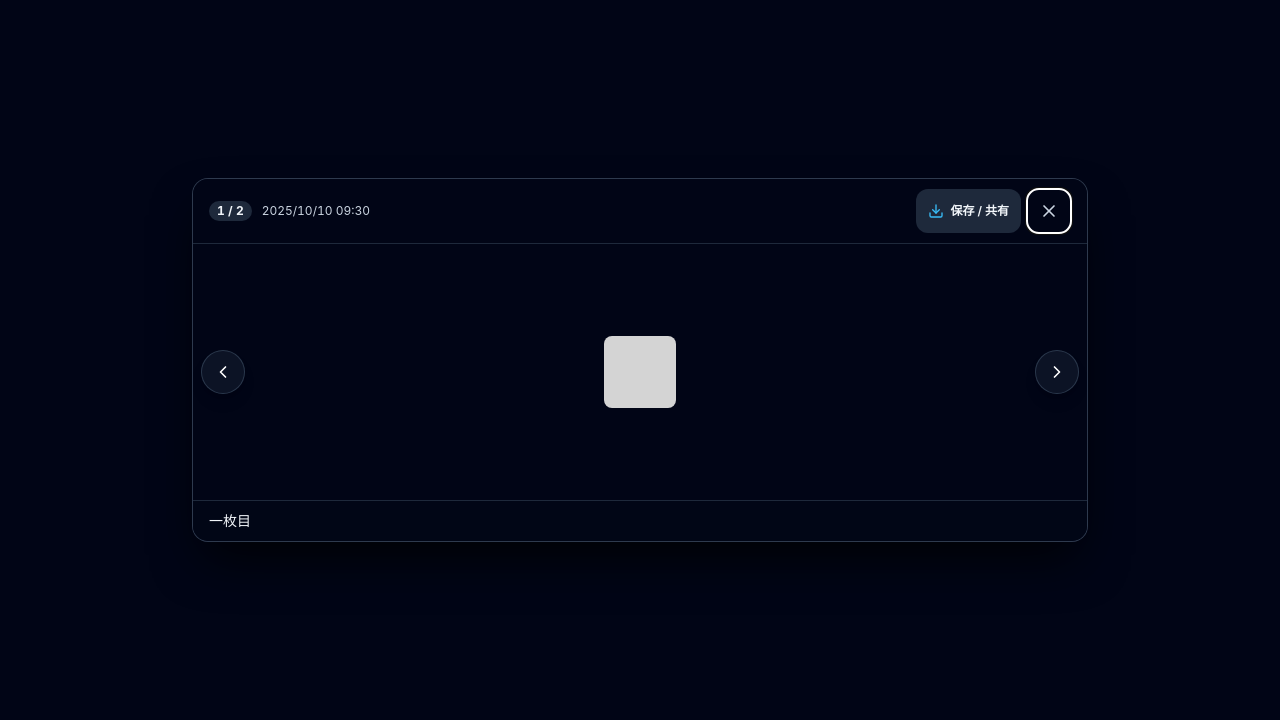
Test case: Phase 2 photo UI components › opens PhotoLightbox modal, switches photos via buttons and keyboard, and closes cleanly
This screenshot has width=1280, height=720.
Later steps or results of the test are not shown.
expect the text "1 / 2" is shown: met, box [209,201,252,221]
expect the text "2025/10/10 09:30" is shown: met, box [262,203,370,219]
Click the button named "次の写真" at (1057, 372), box [1035,350,1079,394]
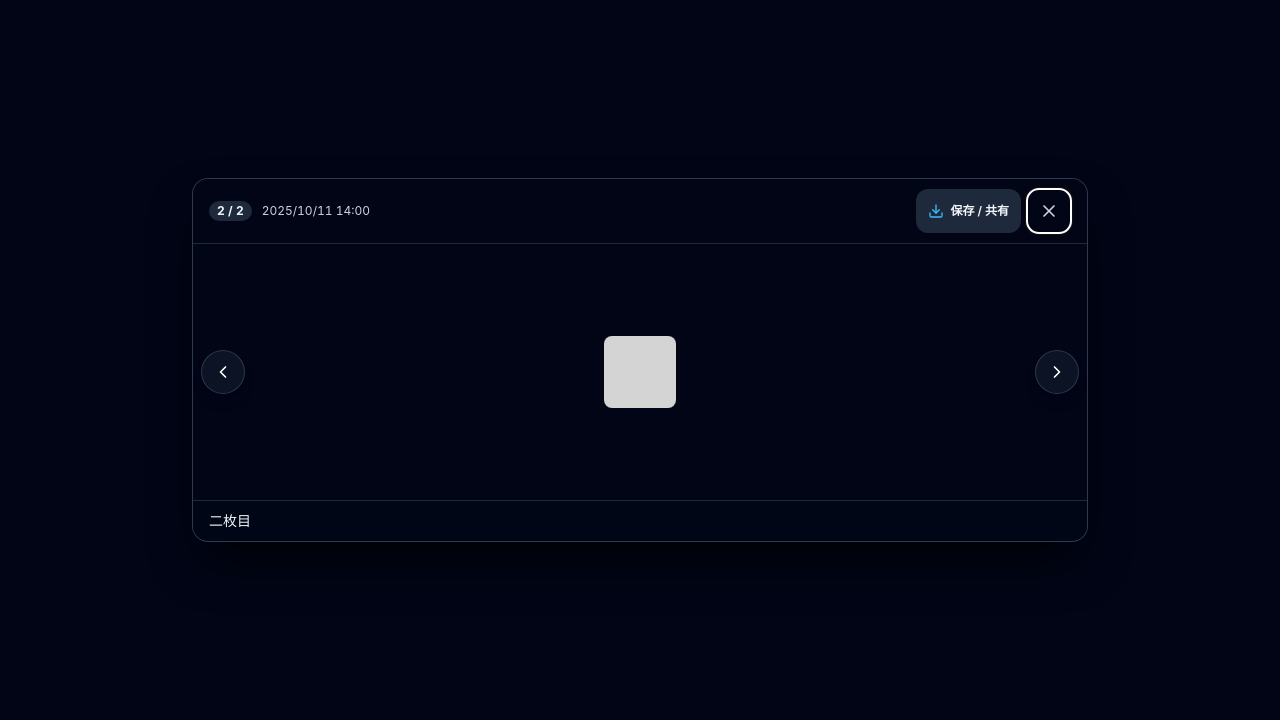
expect the text "2 / 2" is shown: met, box [209,201,252,221]
expect the text "二枚目" is shown: met, box [193,500,1087,541]
Press ArrowLeft in the dialog, box [192,178,1088,542]
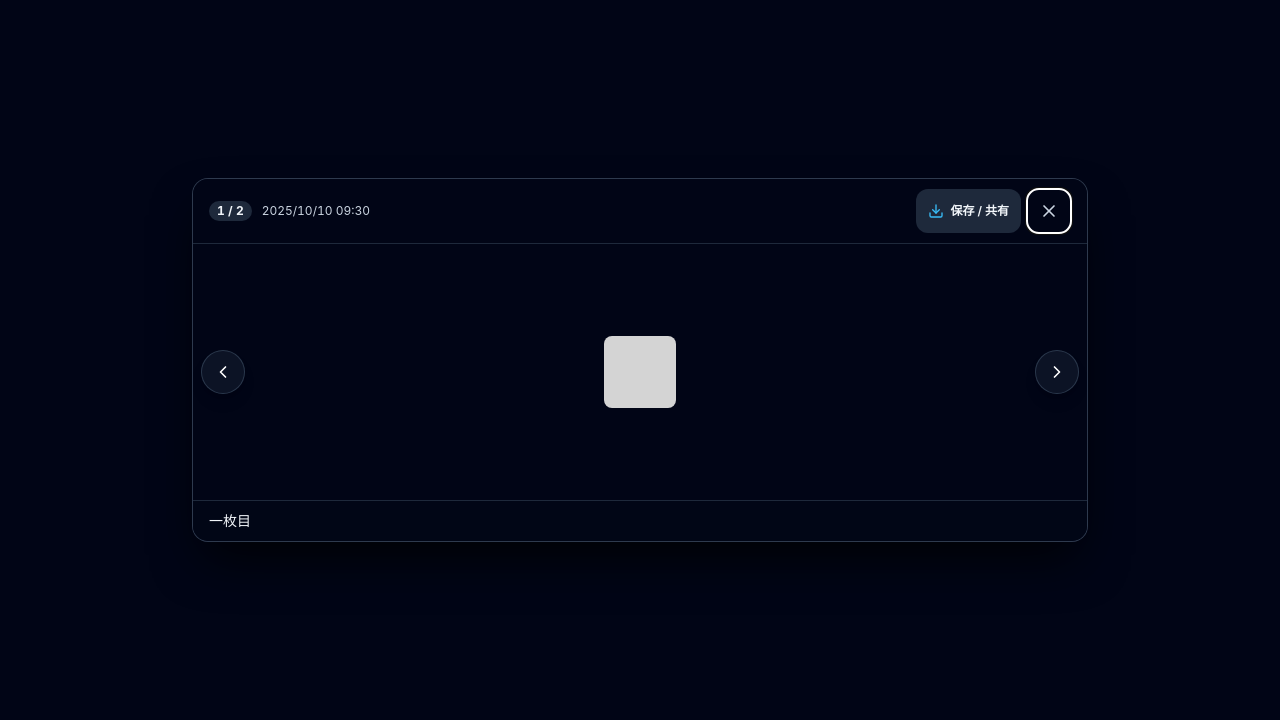
expect the text "1 / 2" is shown: met, box [209,201,252,221]
